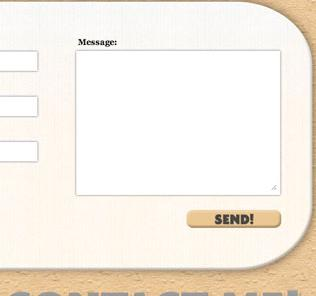button: (186, 209, 283, 229)
field: (73, 48, 282, 197)
field_with_label: (70, 38, 285, 200)
